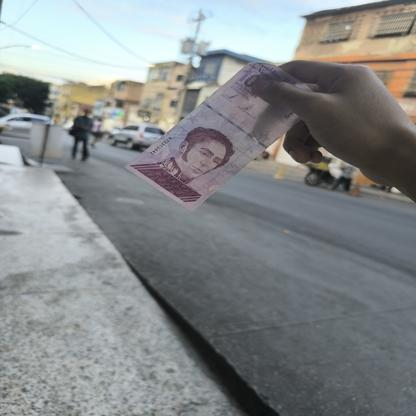one_hundred-front-vef: (123, 60, 316, 212)
